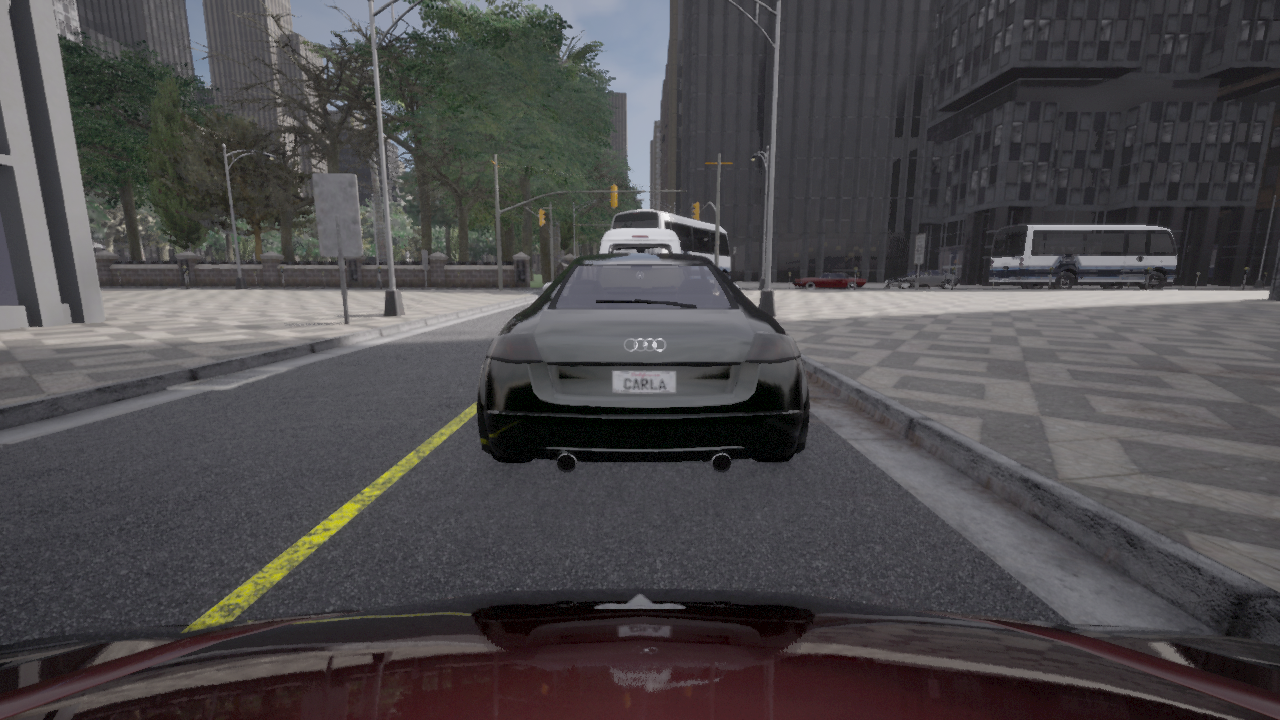cyclist: (0, 588, 1279, 719), (477, 253, 809, 472), (988, 224, 1191, 289), (611, 210, 736, 278), (599, 228, 681, 253), (883, 270, 958, 289), (792, 272, 865, 289)
